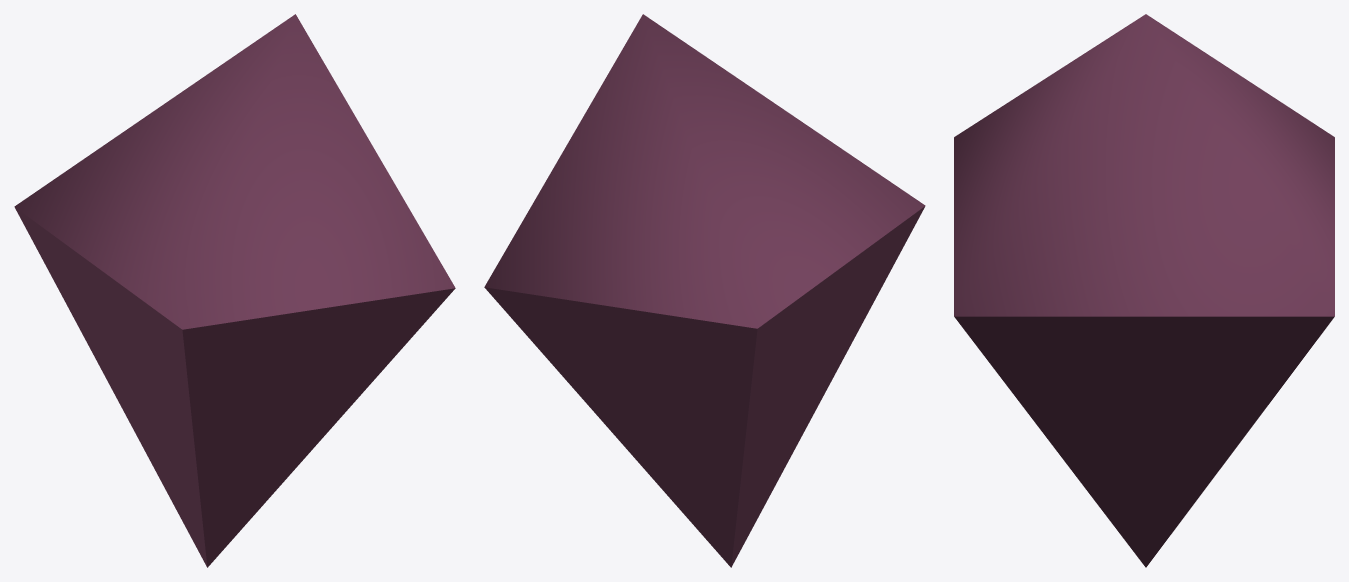
3 views of the same model, side by side, from view 1: azimuth 30°, elevation 25°; view 2: azimuth 150°, elevation 25°; view 3: azimuth 270°, elevation 25° (orthographic). The views are drawn at different scales.
Parts seen in each view (by area): view 1: geo; view 2: geo; view 3: geo.
Part boxes in pixels (x1,y1,x2,y2): geo: (14, 14, 455, 567); geo: (484, 14, 925, 567); geo: (954, 14, 1334, 567).
Bounding box in the file's own units: 16.76 × 31.2 × 17.86.
